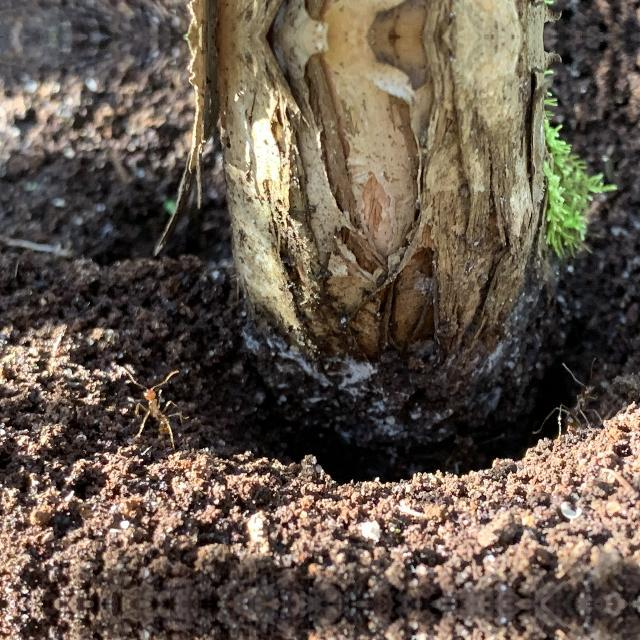Apheanogaster: (542, 362, 612, 438), (126, 365, 186, 441)
